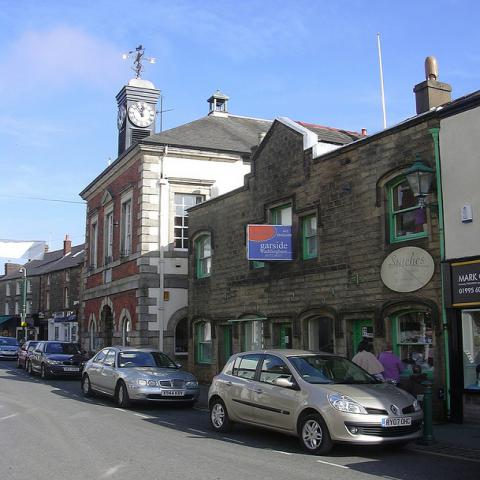car: (207, 348, 424, 455), (82, 346, 200, 408), (23, 340, 86, 378), (16, 341, 41, 367), (0, 336, 24, 360)
